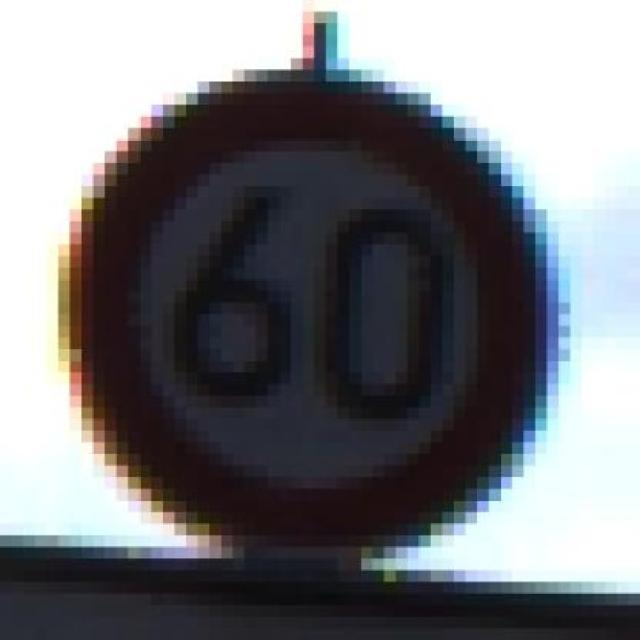forb_speed_over_60: (71, 72, 542, 546)
